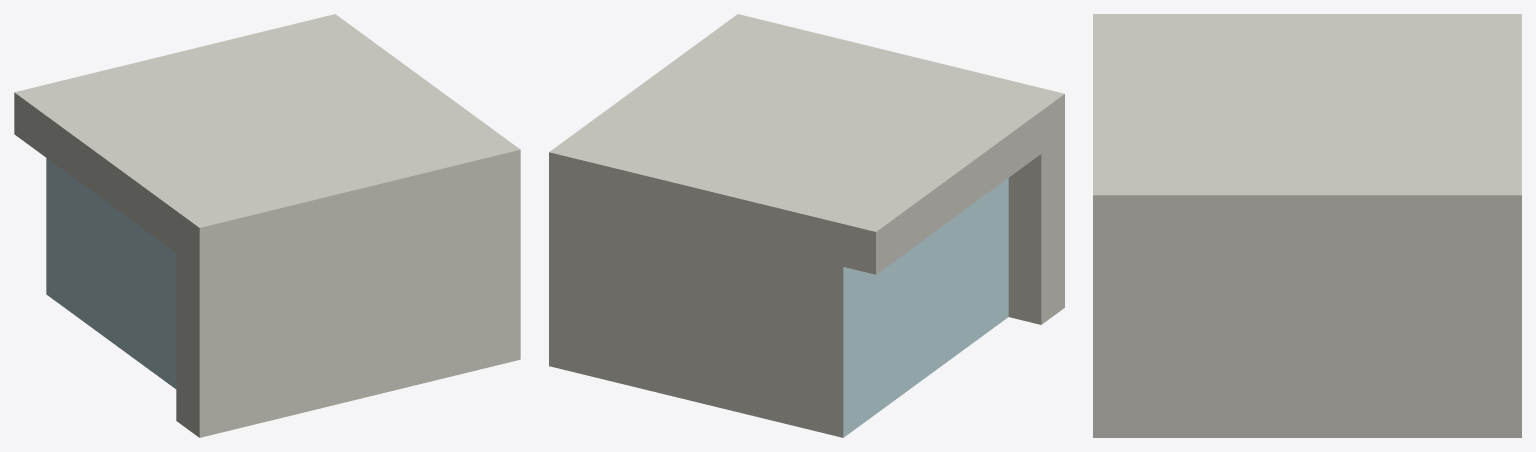
The model's file is building_050.glb.
3 renders of one model, left to right at view 1: azimuth 30°, elevation 25°; view 2: azimuth 150°, elevation 25°; view 3: azimuth 270°, elevation 25°, orthographic. The views are drawn at different scales.
Visible parts, largest first — view 1: building_050; view 2: building_050; view 3: building_050.
Boxes of the visible parts, box(x1,y1,x2,y2) form: building_050: box(14, 14, 520, 437); building_050: box(549, 14, 1064, 437); building_050: box(1093, 14, 1521, 437).
Size of the model in its own units: 1 by 0.625 by 1.
